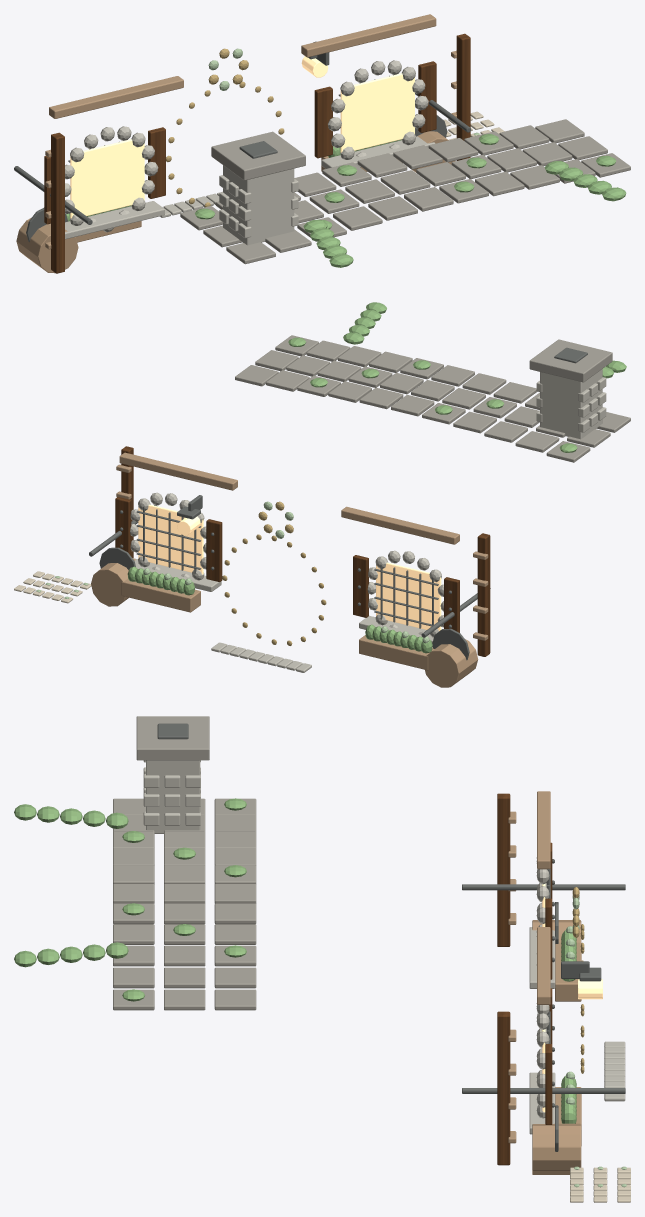
File: shire_bagshot_cottage_craftwork.glb
3 views of the same model, one above another, from view 1: azimuth 30°, elevation 25°; view 2: azimuth 150°, elevation 25°; view 3: azimuth 270°, elevation 25° (orthographic). The views are drawn at different scales.
Visible parts, largest first — view 1: Art_roof_slate, Art_rounded_fieldstone, Art_amber_glass, Art_oak_grain_original, Art_weathered_wood, Art_ivy_and_herbs, Art_forged_iron, Art_warm_brass, Art_handwoven_linen; view 2: Art_roof_slate, Art_weathered_wood, Art_rounded_fieldstone, Art_amber_glass, Art_oak_grain_original, Art_forged_iron, Art_ivy_and_herbs, Art_handwoven_linen, Art_warm_brass, Art_household_motif_color; view 3: Art_roof_slate, Art_rounded_fieldstone, Art_weathered_wood, Art_ivy_and_herbs, Art_oak_grain_original, Art_forged_iron, Art_handwoven_linen.
Boxes of the visible parts, left/top/right/bottom form: Art_roof_slate: left=180, top=119, right=630, bottom=264; Art_rounded_fieldstone: left=65, top=60, right=435, bottom=245; Art_amber_glass: left=70, top=56, right=414, bottom=218; Art_oak_grain_original: left=44, top=33, right=470, bottom=273; Art_weathered_wood: left=16, top=14, right=456, bottom=273; Art_ivy_and_herbs: left=66, top=134, right=626, bottom=267; Art_forged_iron: left=14, top=41, right=471, bottom=241; Art_warm_brass: left=166, top=48, right=284, bottom=207; Art_handwoven_linen: left=444, top=111, right=504, bottom=140; Art_roof_slate: left=235, top=335, right=630, bottom=462; Art_weathered_wood: left=91, top=452, right=488, bottom=687; Art_rounded_fieldstone: left=130, top=369, right=606, bottom=672; Art_amber_glass: left=138, top=504, right=441, bottom=630; Art_oak_grain_original: left=115, top=446, right=490, bottom=656; Art_forged_iron: left=89, top=347, right=587, bottom=660; Art_ivy_and_herbs: left=127, top=302, right=626, bottom=653; Art_handwoven_linen: left=14, top=571, right=91, bottom=603; Art_warm_brass: left=222, top=501, right=326, bottom=645; Art_household_motif_color: left=36, top=501, right=429, bottom=643; Art_roof_slate: left=113, top=716, right=256, bottom=1010; Art_rounded_fieldstone: left=143, top=760, right=625, bottom=1134; Art_weathered_wood: left=508, top=791, right=581, bottom=1174; Art_ivy_and_herbs: left=14, top=798, right=576, bottom=1123; Art_oak_grain_original: left=497, top=793, right=552, bottom=1165; Art_forged_iron: left=157, top=723, right=625, bottom=1151; Art_handwoven_linen: left=570, top=1167, right=630, bottom=1202.
Size of the model in its own units: 8.61 by 4.02 by 8.6.
Materials: 10 (1 with a texture image).
